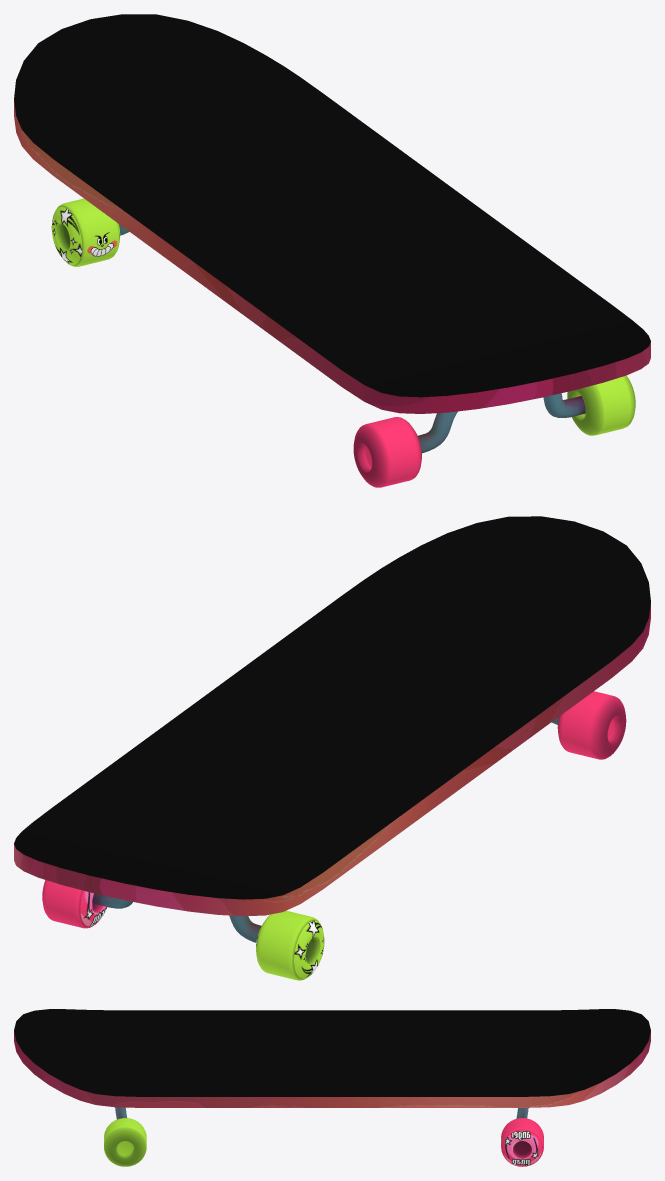
Rendered from board.glb.
The picture shows the model from 3 angles, top to bottom: view 1: azimuth 30°, elevation 25°; view 2: azimuth 150°, elevation 25°; view 3: azimuth 270°, elevation 25°; orthographic projection. The views are drawn at different scales.
Parts seen in each view (by area): view 1: board, wheel_rf; view 2: board, wheel_rf, wheel_lf; view 3: board, wheel_lf.
Part boxes in pixels (x1,y1,x2,y2): board: (14,14,650,487); wheel_rf: (51,198,120,266); board: (14,516,650,942); wheel_rf: (256,910,324,980); wheel_lf: (42,880,107,928); board: (14,1009,650,1166); wheel_lf: (501,1118,543,1166).
Size of the model in its own units: 2 by 1.03 by 6.21.
Materials: 1 (1 with a texture image).
